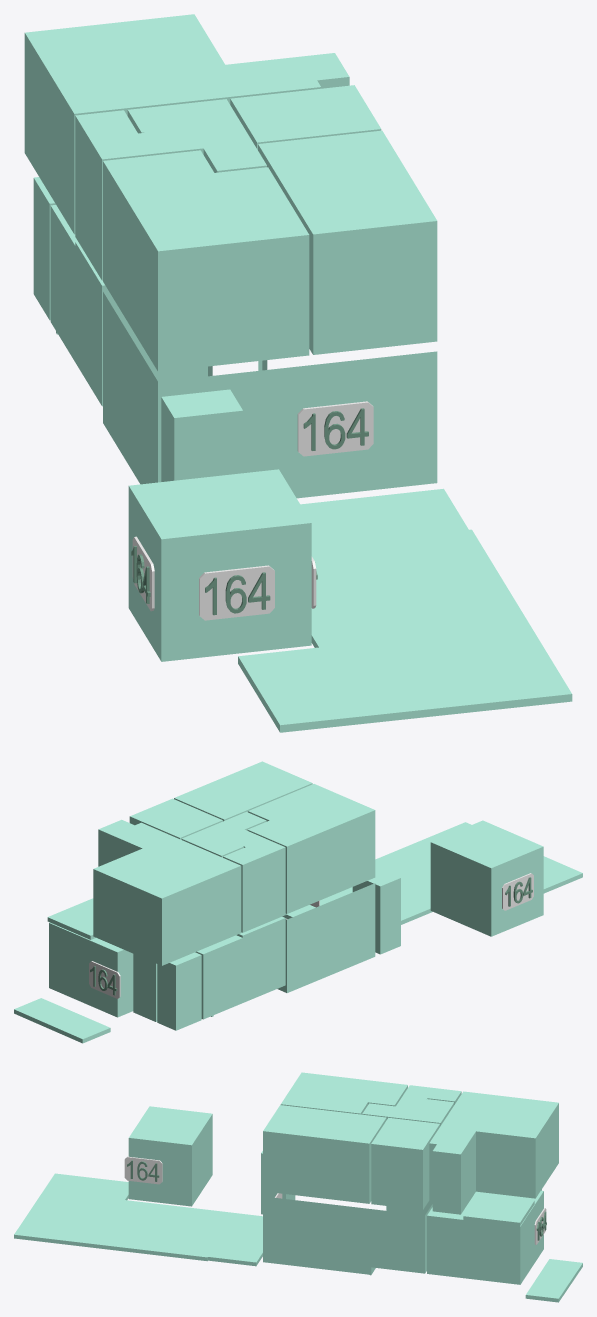
3 renders of one model, top to bottom at view 1: azimuth 30°, elevation 25°; view 2: azimuth 150°, elevation 25°; view 3: azimuth 270°, elevation 25°, orthographic. The views are drawn at different scales.
Visible parts, largest first — view 1: g_13, g_6, g_1, g_7, g_5, g_11, g_2, g_4, g_9, g_8, g_10, g_30 (+2 smaller); view 2: g_11, g_6, g_5, g_2, g_1, g_0, g_13, g_7, g_10, g_3, g_4, g_14 (+5 smaller); view 3: g_13, g_11, g_1, g_7, g_0, g_5, g_9, g_6, g_12, g_8, g_14, g_34 (+1 smaller).
Part boxes in pixels (x1,y1,x2,y2): g_13: (238,488,572,732); g_6: (103,150,309,371); g_1: (103,292,437,498); g_7: (258,130,437,354); g_5: (128,469,311,661); g_11: (24,14,349,234); g_2: (50,205,207,406); g_4: (161,389,243,481); g_9: (230,85,381,149); g_8: (127,99,266,172); g_10: (75,110,157,280); g_30: (297,401,373,456); g_11: (93,819,241,965); g_6: (247,784,375,913); g_5: (430,820,543,936); g_2: (133,916,285,1021); g_1: (277,883,375,992); g_0: (49,922,133,1017); g_13: (282,822,582,924); g_7: (174,761,312,821); g_10: (223,837,285,932); g_3: (157,952,201,1030); g_4: (352,867,400,954); g_14: (14,998,110,1043); g_13: (14,1173,262,1266); g_11: (429,1091,558,1214); g_1: (263,1196,432,1275); g_7: (263,1105,386,1203); g_0: (427,1190,543,1284); g_5: (128,1106,212,1206); g_9: (371,1117,439,1210); g_6: (280,1072,407,1114); g_12: (463,1193,534,1226); g_8: (362,1097,454,1126); g_14: (525,1259,582,1302); g_34: (124,1156,162,1184).
Bounding box in the file's own units: 11.13 × 5.35 × 20.4.
